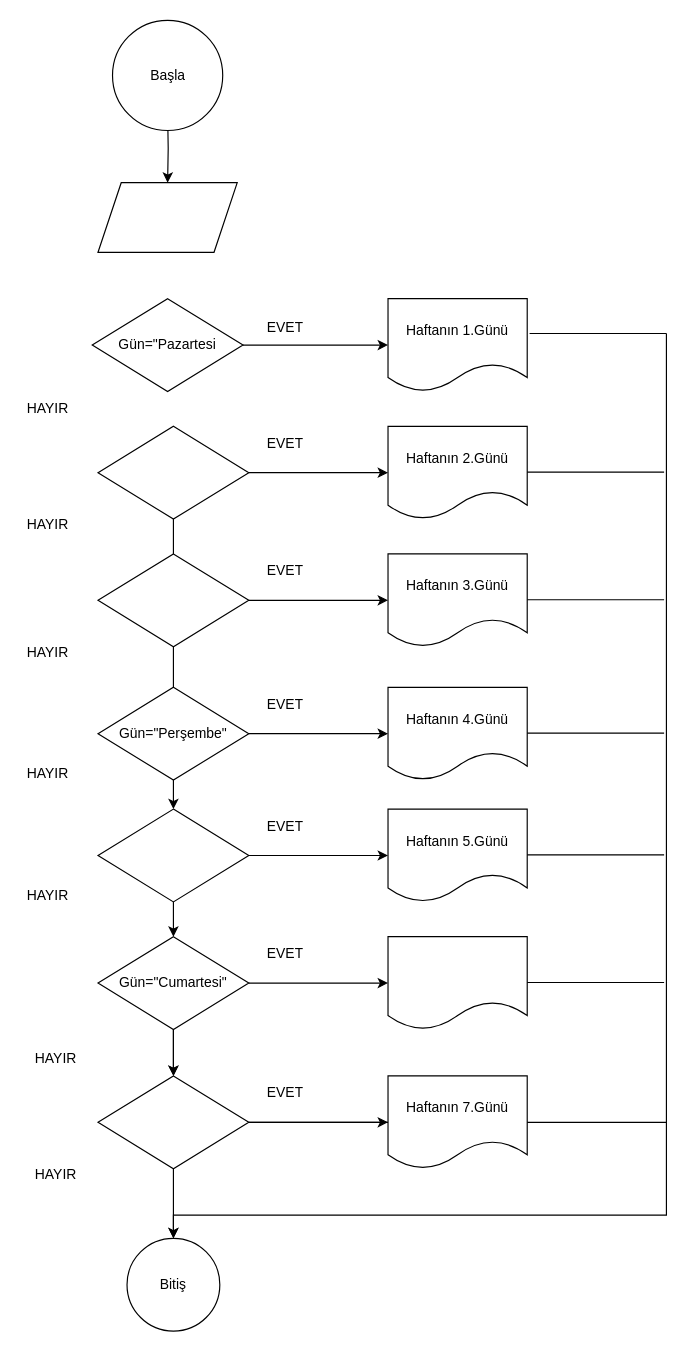
Image size: 696x1351. Some labels were removed from this diagram. The centre of each missing label's shape, as x and y in pixels:
Gün: [167,217]
Gün="Cuma": [173,855]
Gün="Pazar: [173,1122]
Gün="Salı": [173,472]
Gün="Çarşamba": [173,600]
Haftanın 6.Günü: [457,983]
